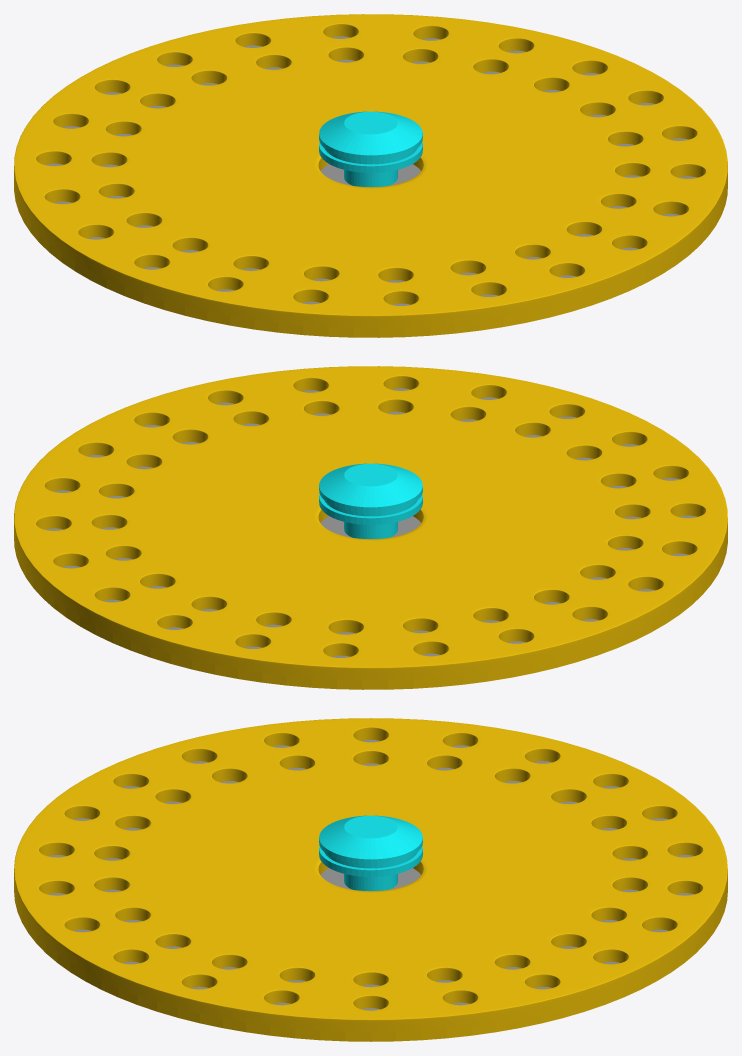
Rendered from CupWasher_high.fbx.
The picture shows the model from 3 angles, top to bottom: view 1: azimuth 30°, elevation 25°; view 2: azimuth 150°, elevation 25°; view 3: azimuth 270°, elevation 25°; orthographic projection.
Parts seen in each view (by area): view 1: Cup_Washer_high; view 2: Cup_Washer_high; view 3: Cup_Washer_high.
Boxes of the visible parts, bbox=[...] form: Cup_Washer_high: bbox=[14, 14, 727, 337]; Cup_Washer_high: bbox=[14, 366, 727, 689]; Cup_Washer_high: bbox=[14, 718, 727, 1041].
Bounding box in the file's own units: 12.84 × 3.24 × 12.83.
